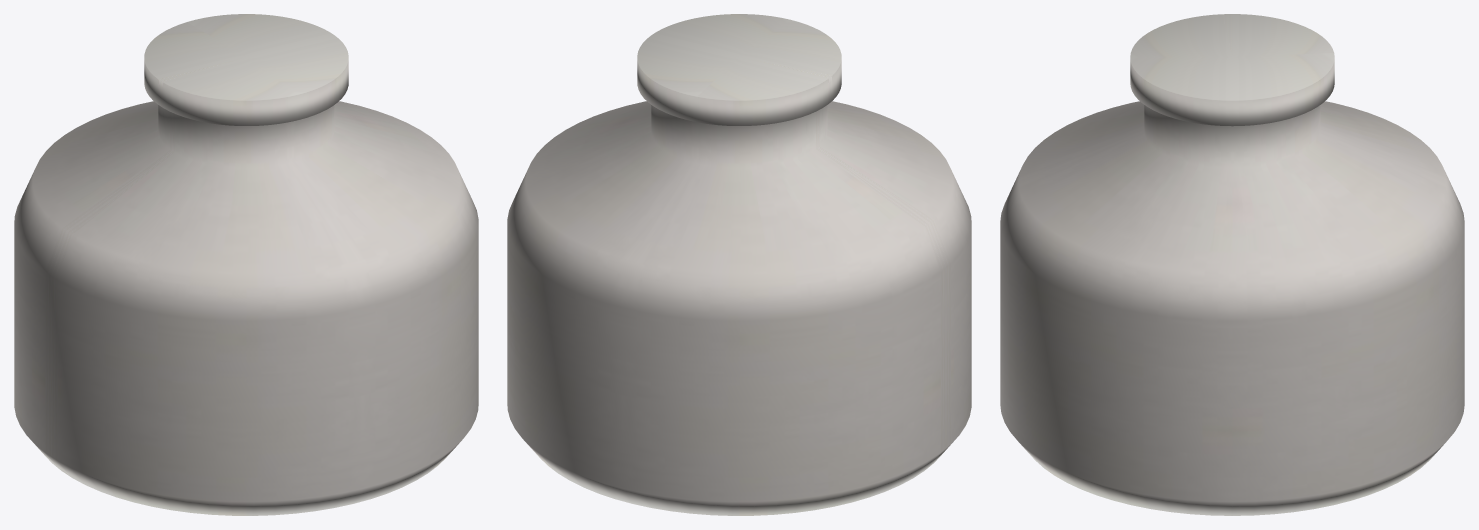
The model's file is CER-09.glb.
3 renders of one model, left to right at view 1: azimuth 30°, elevation 25°; view 2: azimuth 150°, elevation 25°; view 3: azimuth 270°, elevation 25°, orthographic.
Size of the model in its own units: 0.16 by 0.14 by 0.16.
Materials: 1 (1 with a texture image).
